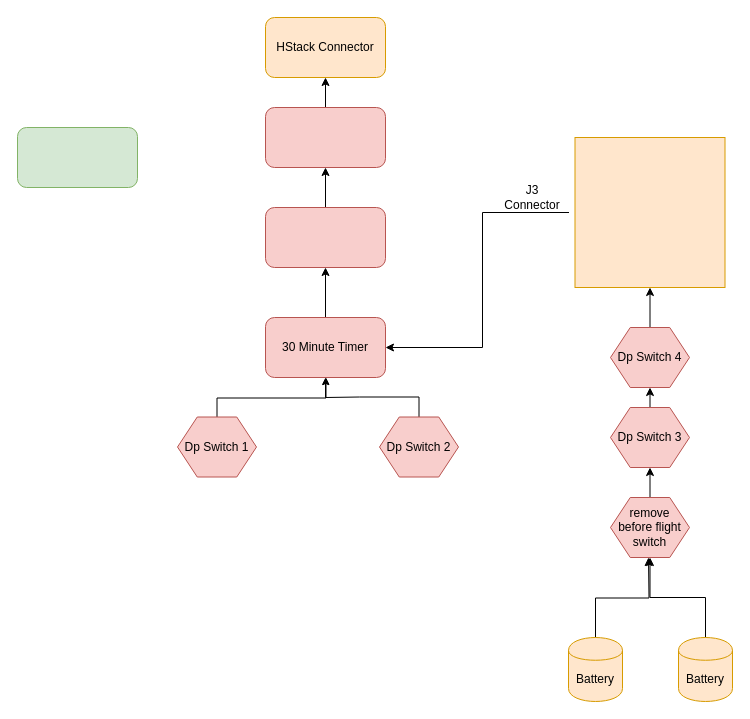
Some shapes in this 750 by 719 pixel diagram are drawn without their labels. Here are the shapes that lost their labels. From the top down, the box of each, then its label:
(16, 126, 138, 188): Magnetorquer Z Mount
(264, 106, 386, 168): Load Switches
(574, 136, 725, 288): EnduroSat Electrical Power Supply Unit
(264, 206, 386, 268): Latching Circuit
